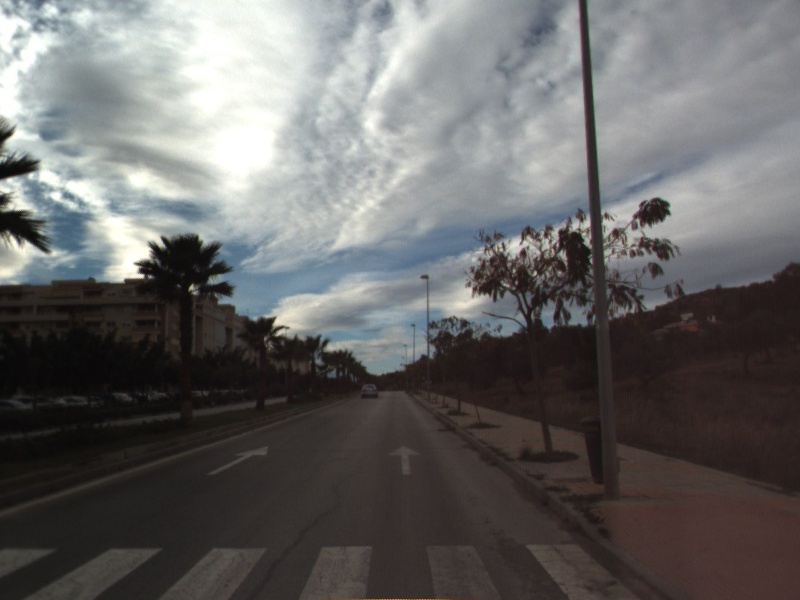STRAIGHT: (204, 444, 270, 477), (387, 444, 423, 477)
